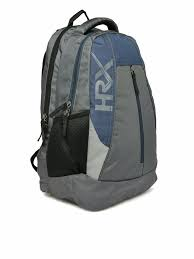backpack: (30, 9, 158, 211)
